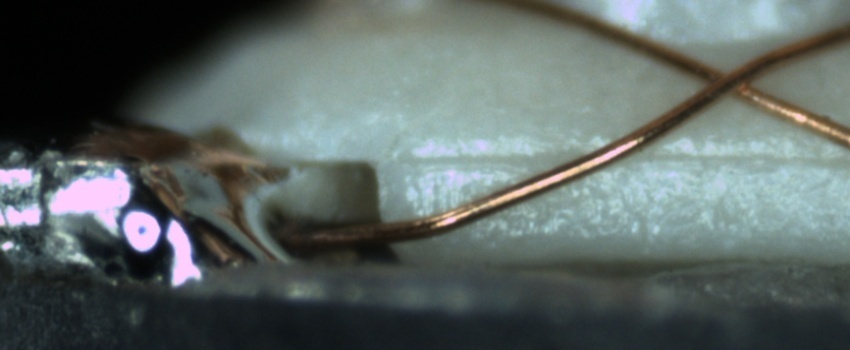CL: (684, 50, 777, 108)
DL: (402, 129, 849, 187)
